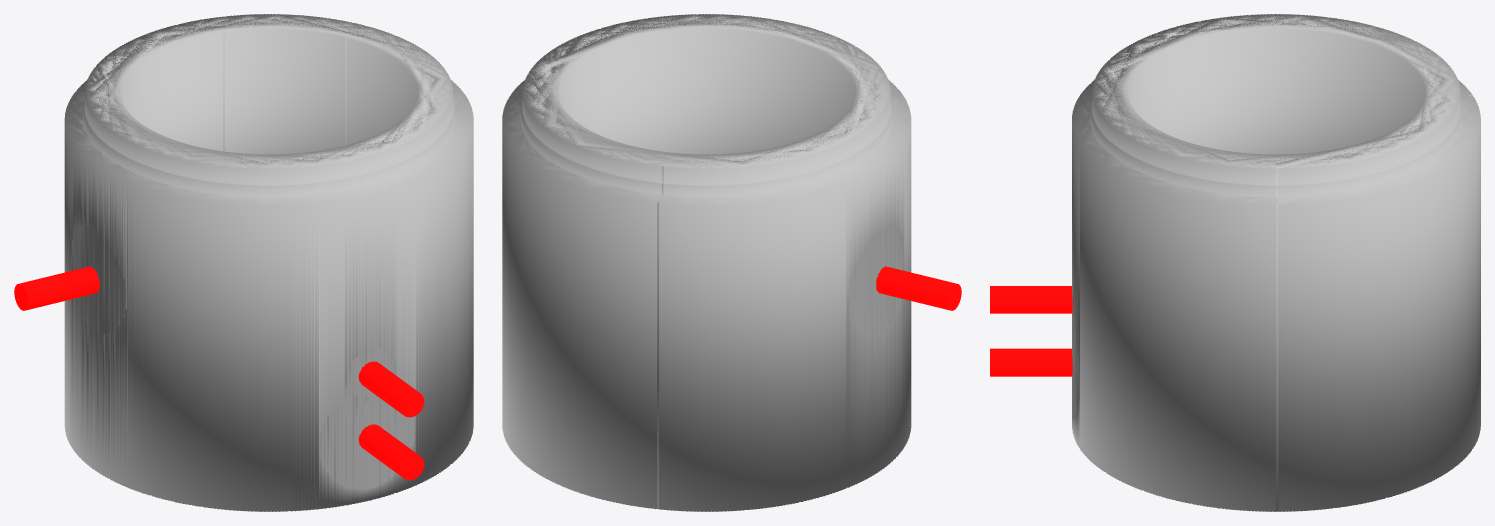
File: LOT129_4d48b9f9.glb
The picture shows the model from 3 angles, left to right: view 1: azimuth 30°, elevation 25°; view 2: azimuth 150°, elevation 25°; view 3: azimuth 270°, elevation 25°; orthographic projection.
Parts seen in each view (by area): view 1: 1200x1.219r_Obj, Cylinder.003, Cylinder.005, Cylinder.001; view 2: 1200x1.219r_Obj, Cylinder.003; view 3: 1200x1.219r_Obj, Cylinder.001, Cylinder.005.
Boxes of the visible parts, box(x1,y1,x2,y2) form: 1200x1.219r_Obj: box(64, 14, 473, 511); Cylinder.003: box(14, 266, 99, 310); Cylinder.005: box(358, 361, 424, 417); Cylinder.001: box(358, 424, 424, 480); 1200x1.219r_Obj: box(502, 14, 911, 511); Cylinder.003: box(876, 266, 961, 310); 1200x1.219r_Obj: box(1072, 14, 1480, 511); Cylinder.001: box(990, 348, 1072, 376); Cylinder.005: box(990, 286, 1072, 313).
Size of the model in its own units: 1.77 by 1.33 by 1.77.
